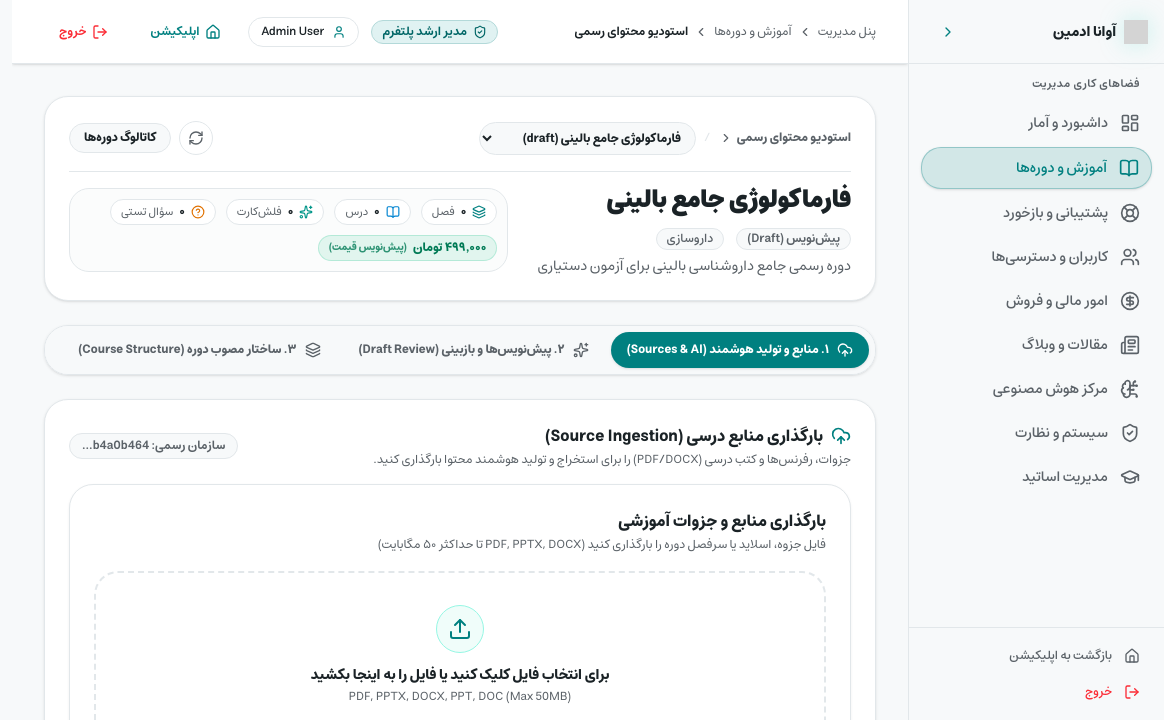
Test: Unified Official Content Studio Workspace — Comprehensive Test Matrix › Scenario 9: Draft review workspace displays lesson mapping confirmation (unresolvedLessonMappings = 0)
The image size is (1164, 720).
Expected: the text "۲. پیش‌نویس‌ها و بازبینی (Draft Review)" is shown, top-left (359, 342), bottom-right (565, 358)
Click the button "۲. پیش‌نویس‌ها و بازبینی (Draft Review)": (474, 350) top-left (343, 332), bottom-right (605, 368)
(page scrolled)
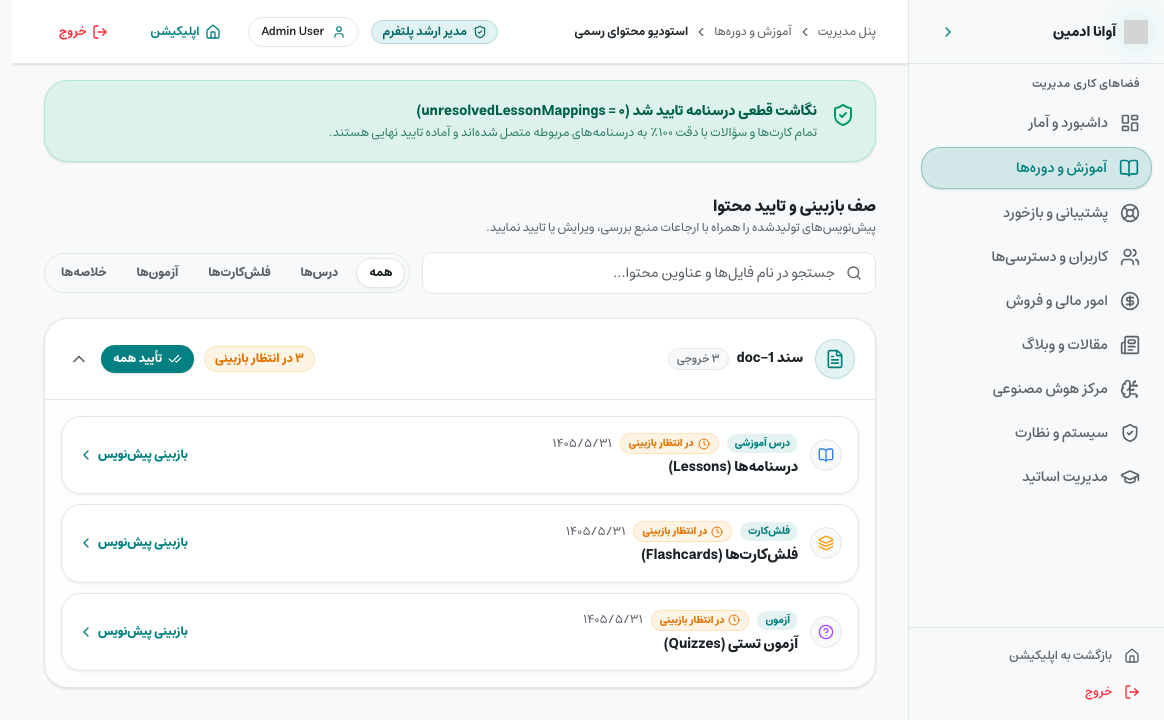
Result: the text "نگاشت قطعی درسنامه تایید شد (unresolvedLessonMappings = ۰)" is shown at top-left (416, 99), bottom-right (817, 123)
Result: the heading "درسنامه‌ها (Lessons)" is shown at top-left (668, 455), bottom-right (798, 479)
Result: the heading "فلش‌کارت‌ها (Flashcards)" is shown at top-left (641, 543), bottom-right (798, 567)
